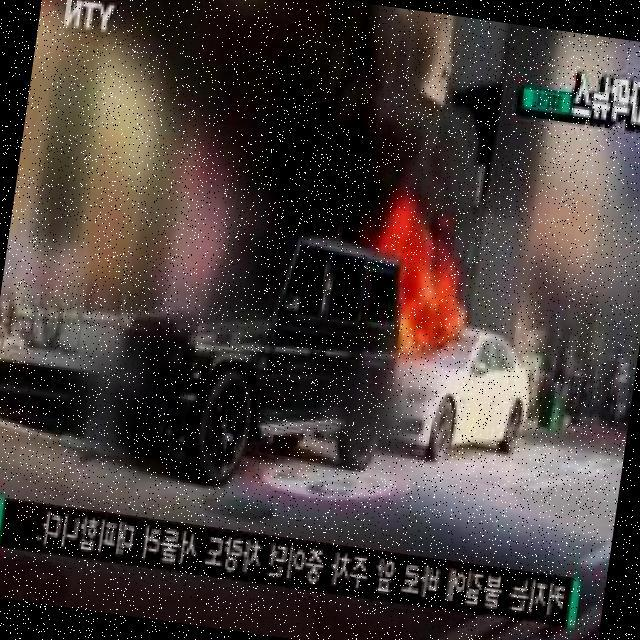Fire: (382, 226, 481, 359)
